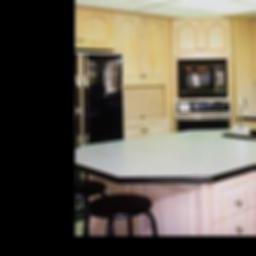Electrodomestico: (77, 50, 124, 139)
Lavaplatos: (222, 93, 256, 144)
